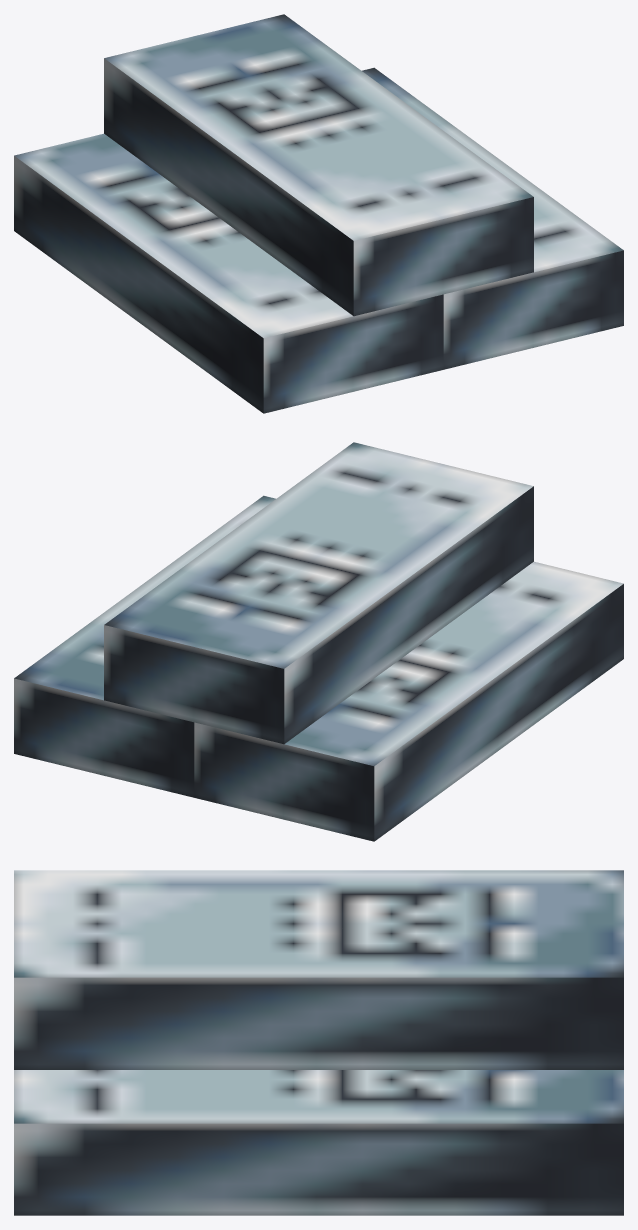
File: silverbars.obj
3 views of the same model, one above another, from view 1: azimuth 30°, elevation 25°; view 2: azimuth 150°, elevation 25°; view 3: azimuth 270°, elevation 25° (orthographic). The views are drawn at different scales.
Parts seen in each view (by area): view 1: cube.001, cube.000, cube; view 2: cube.001, cube.000, cube; view 3: cube.001, cube.
Boxes of the visible parts, x1,y1,x2,y2 form: cube.001: (104,14,533,316); cube.000: (14,133,443,413); cube: (362,67,623,369); cube.001: (104,442,533,744); cube.000: (194,561,623,841); cube: (14,495,275,797); cube.001: (14,870,623,1069); cube: (14,1070,623,1215).
Size of the model in its own units: 0.625 by 0.25 by 0.75.
Materials: 1 (1 with a texture image).
